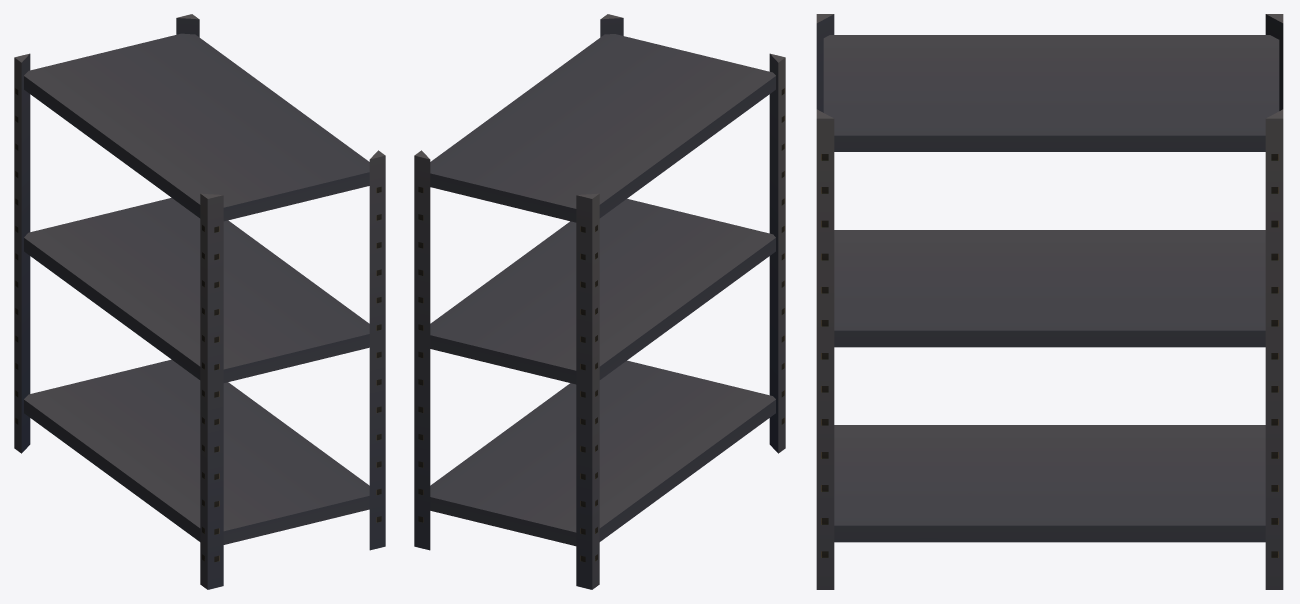
File: Shelf_Long.fbx
3 views of the same model, side by side, from view 1: azimuth 30°, elevation 25°; view 2: azimuth 150°, elevation 25°; view 3: azimuth 270°, elevation 25° (orthographic). The views are drawn at different scales.
Parts seen in each view (by area): view 1: Shelf_Long; view 2: Shelf_Long; view 3: Shelf_Long.
Part boxes in pixels (left/top/right/bottom): Shelf_Long: left=14, top=14, right=385, bottom=589; Shelf_Long: left=414, top=14, right=785, bottom=589; Shelf_Long: left=816, top=14, right=1283, bottom=589.
Bounding box in the file's own units: 131 × 272 × 246.
